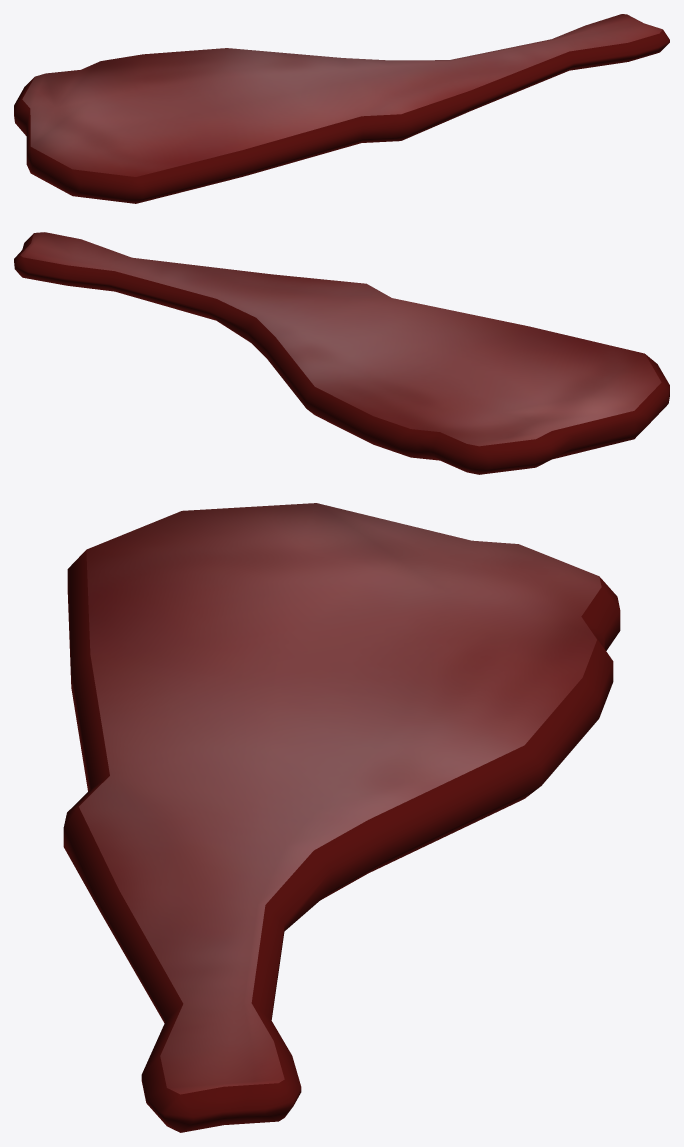
The model's file is MeatThree.fbx.
3 renders of one model, top to bottom at view 1: azimuth 30°, elevation 25°; view 2: azimuth 150°, elevation 25°; view 3: azimuth 270°, elevation 25°, orthographic. The views are drawn at different scales.
Visible parts, largest first — view 1: MeatThree; view 2: MeatThree; view 3: MeatThree.
Boxes of the visible parts, <box> form: MeatThree: <box>14,14,669,203</box>; MeatThree: <box>14,232,669,474</box>; MeatThree: <box>63,503,620,1132</box>.
Size of the model in its own units: 155 by 6.52 by 61.39.
